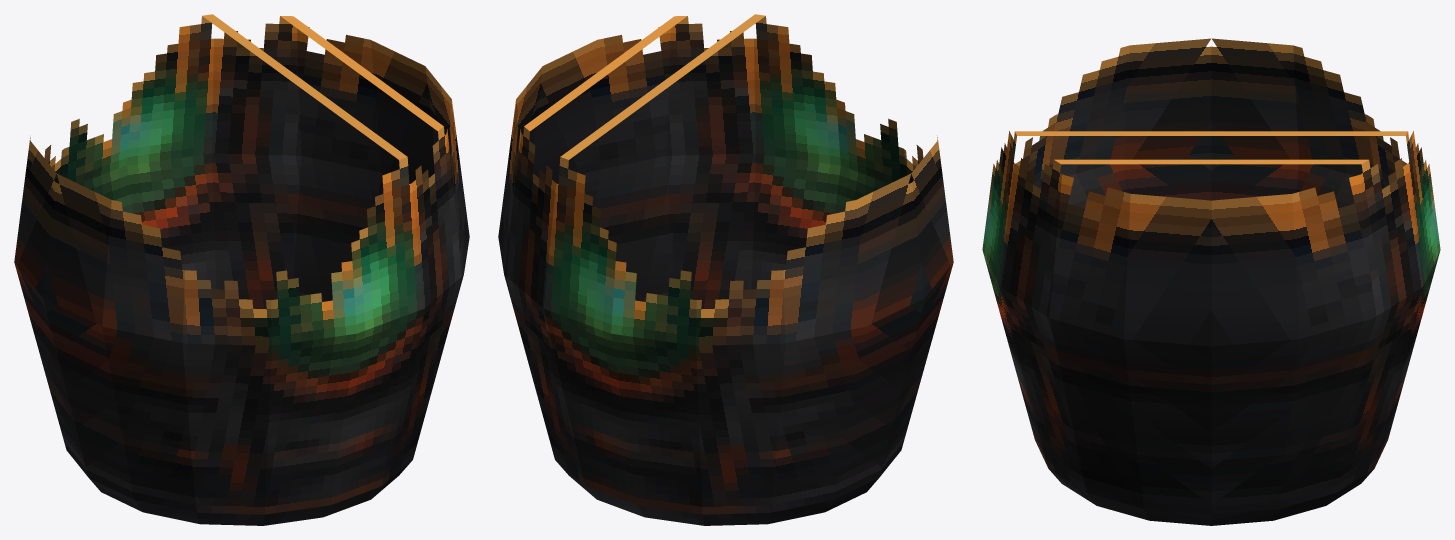
File: barrel-lava-wreck.obj
The picture shows the model from 3 angles, left to right: view 1: azimuth 30°, elevation 25°; view 2: azimuth 150°, elevation 25°; view 3: azimuth 270°, elevation 25°; orthographic projection.
Size of the model in its own units: 0.375 by 0.3281 by 0.375.
